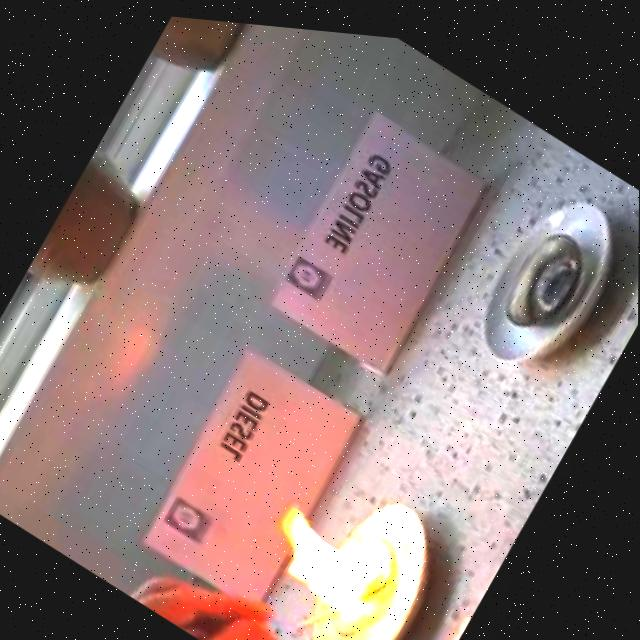Smoke: (252, 482, 401, 627)
